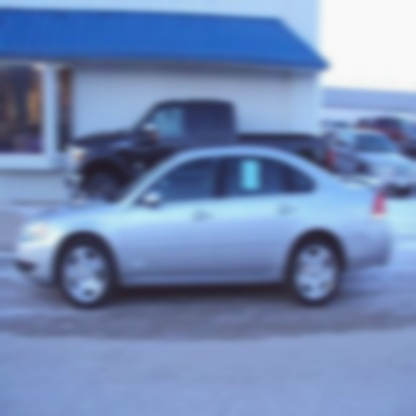Vehicle: (13, 142, 394, 311)
